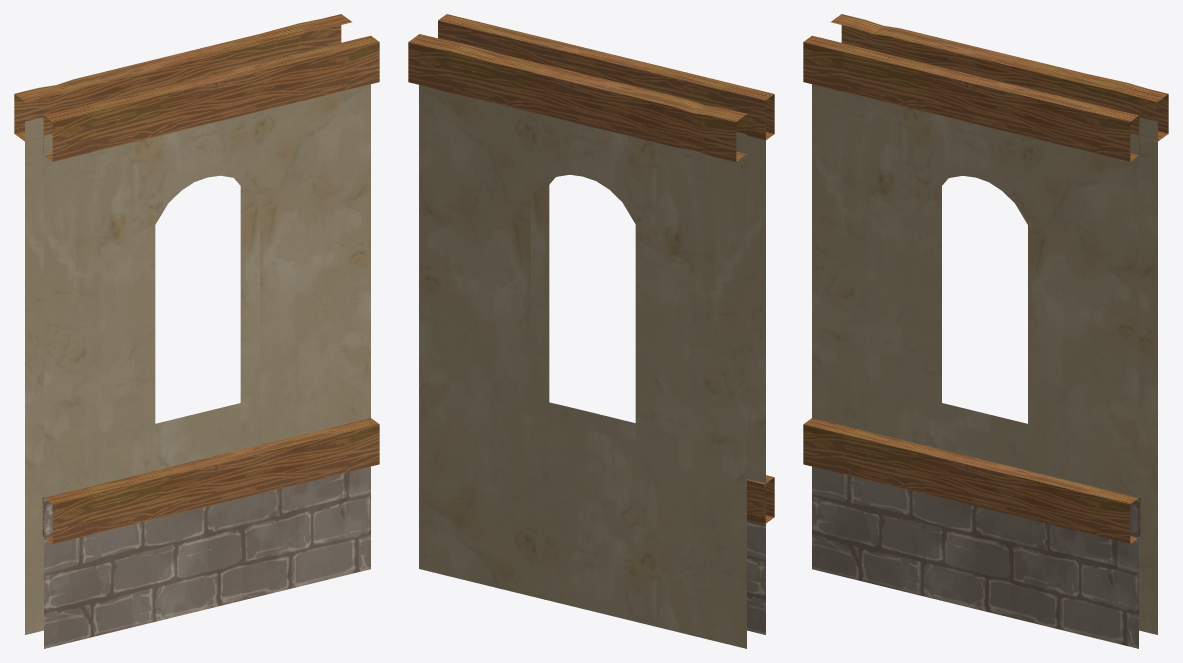
File: Wall_Plaster_Window_Thin_Round.gltf
The picture shows the model from 3 angles, left to right: view 1: azimuth 30°, elevation 25°; view 2: azimuth 150°, elevation 25°; view 3: azimuth 330°, elevation 25°; orthographic projection.
Parts seen in each view (by area): view 1: Wall_Plaster_Window_Thin_Round; view 2: Wall_Plaster_Window_Thin_Round; view 3: Wall_Plaster_Window_Thin_Round.
Boxes of the visible parts, x1,y1,x2,y2 form: Wall_Plaster_Window_Thin_Round: [14, 14, 379, 648]; Wall_Plaster_Window_Thin_Round: [408, 14, 774, 648]; Wall_Plaster_Window_Thin_Round: [803, 14, 1168, 648].
Bounding box in the file's own units: 2 × 3.12 × 0.4065.
Materials: 3 (3 with a texture image).
